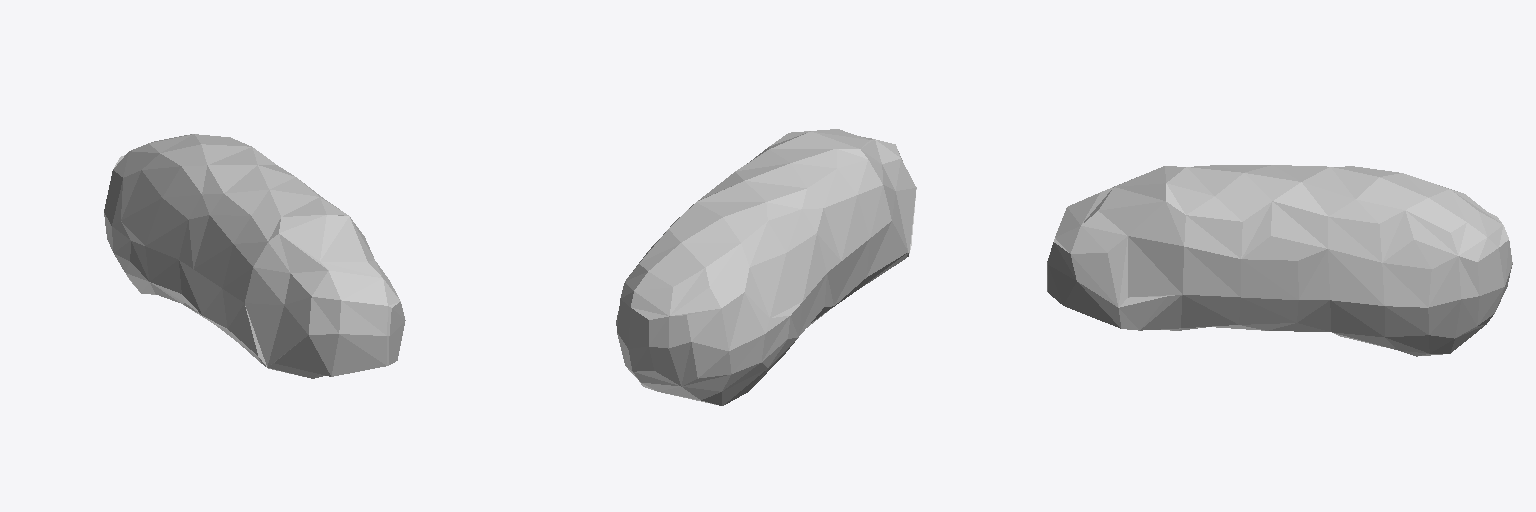
Rendered from sim_ecub_1-1_r_hand_thumb_3.obj.
3 renders of one model, left to right at view 1: azimuth 30°, elevation 25°; view 2: azimuth 150°, elevation 25°; view 3: azimuth 270°, elevation 25°, orthographic.
Size of the model in its own units: 18.55 by 19.39 by 50.59.